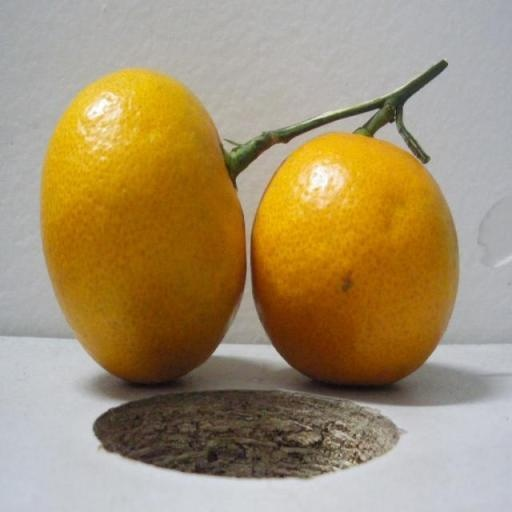fruit: (118, 124, 386, 460), (143, 162, 427, 478), (15, 108, 75, 415), (14, 102, 74, 408), (265, 291, 266, 293)
